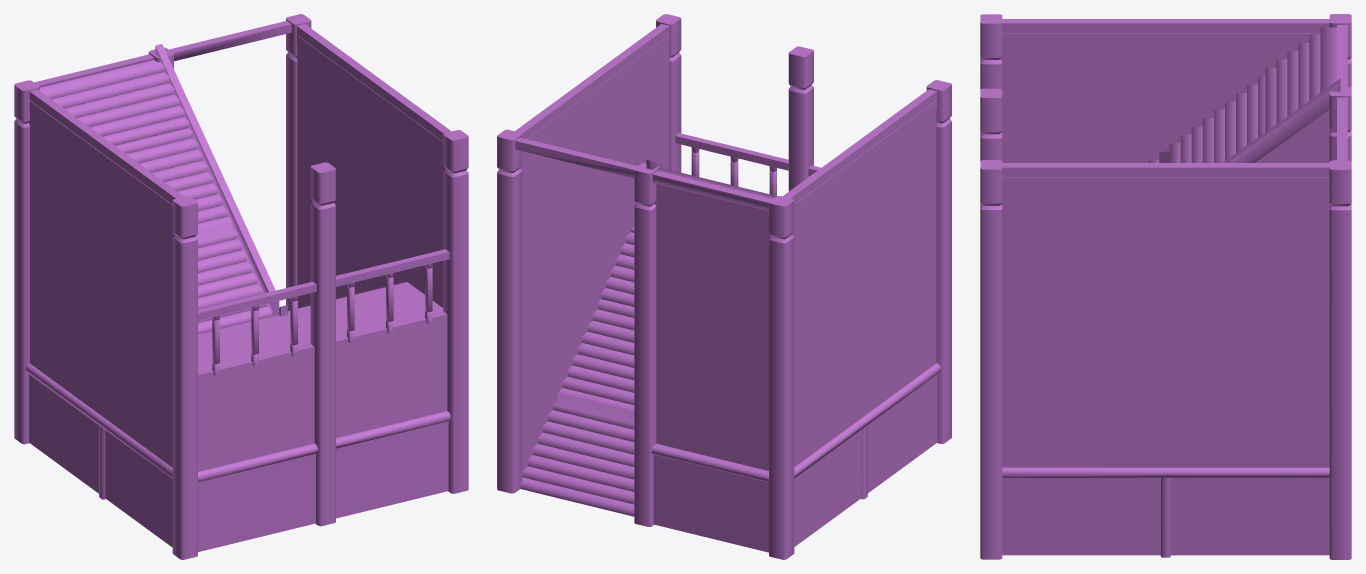
File: BrickHouse_IntStairs_A.fbx
3 views of the same model, side by side, from view 1: azimuth 30°, elevation 25°; view 2: azimuth 150°, elevation 25°; view 3: azimuth 270°, elevation 25° (orthographic). The views are drawn at different scales.
Visible parts, largest first — view 1: BrickHouse_IntStairs_A; view 2: BrickHouse_IntStairs_A; view 3: BrickHouse_IntStairs_A.
Part boxes in pixels (x1,y1,x2,y2): BrickHouse_IntStairs_A: (14, 14, 468, 559); BrickHouse_IntStairs_A: (497, 14, 951, 559); BrickHouse_IntStairs_A: (980, 14, 1351, 559).
Bounding box in the file's own units: 4.22 × 5.05 × 4.25.
